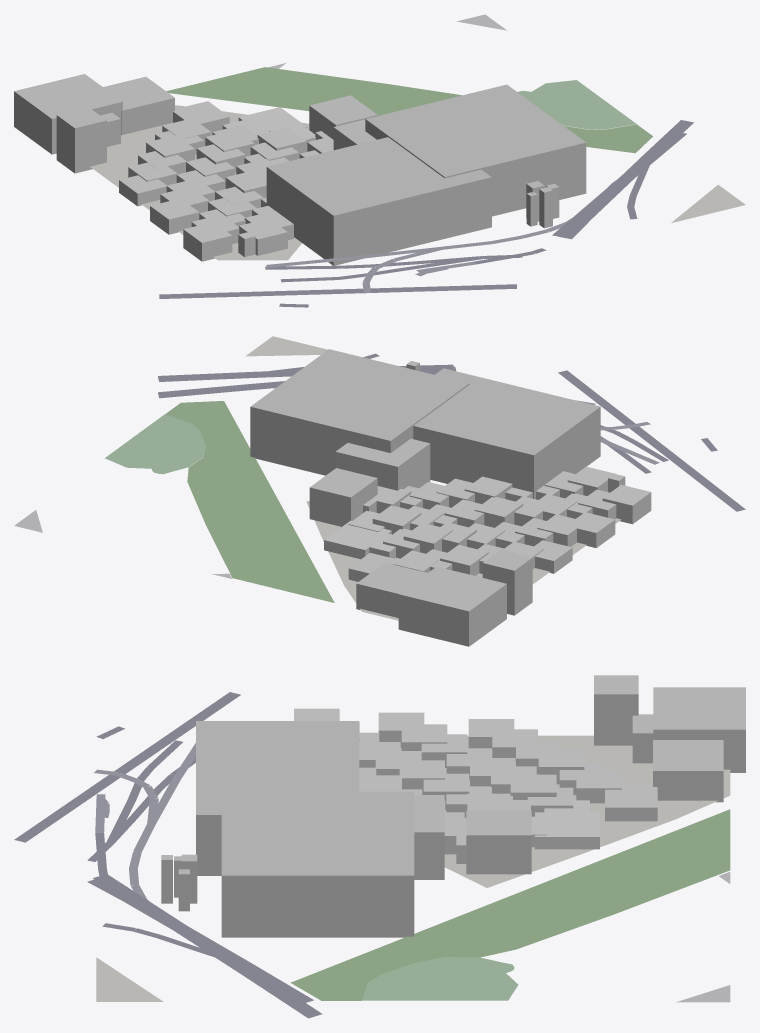
Rendered from 131_87_mid.glb.
3 views of the same model, one above another, from view 1: azimuth 30°, elevation 25°; view 2: azimuth 150°, elevation 25°; view 3: azimuth 270°, elevation 25° (orthographic). The views are drawn at different scales.
Size of the model in its own units: 624 by 58.98 by 577.
